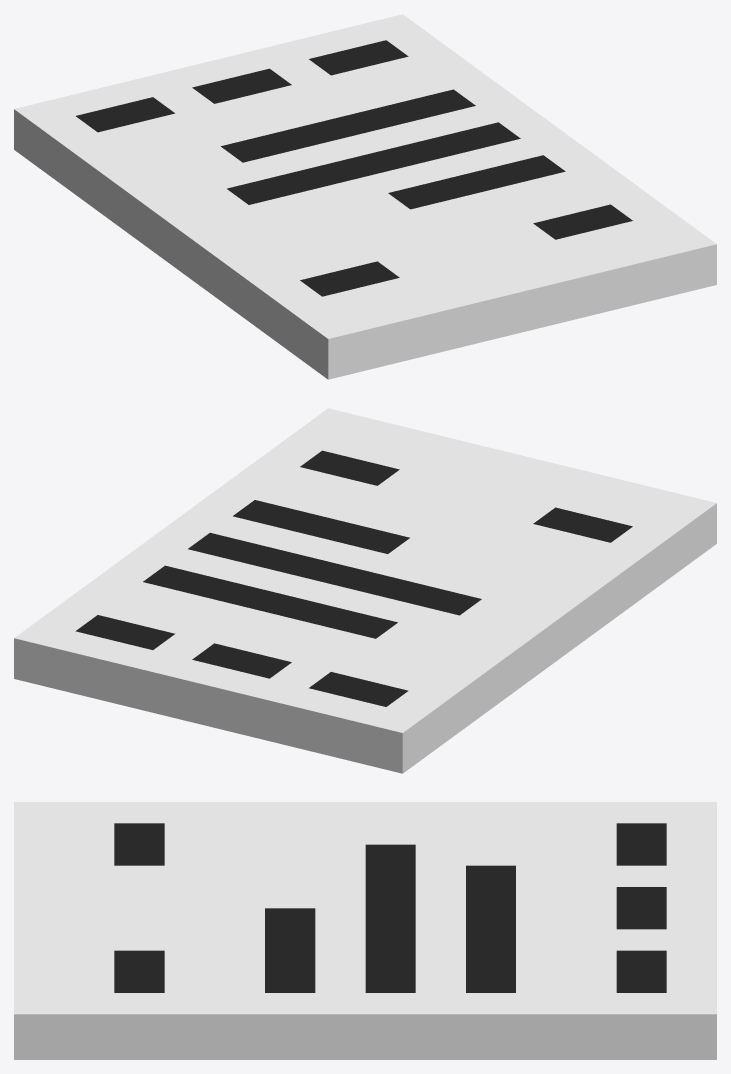
File: paper_02.glb
3 views of the same model, one above another, from view 1: azimuth 30°, elevation 25°; view 2: azimuth 150°, elevation 25°; view 3: azimuth 270°, elevation 25° (orthographic). The views are drawn at different scales.
Visible parts, largest first — view 1: Untitled; view 2: Untitled; view 3: Untitled.
Boxes of the visible parts, <box> form: Untitled: <box>14,14,716,379</box>; Untitled: <box>14,408,716,773</box>; Untitled: <box>14,802,716,1059</box>.
Size of the model in its own units: 0.3 by 0.03 by 0.42.
Materials: 1 (1 with a texture image).
